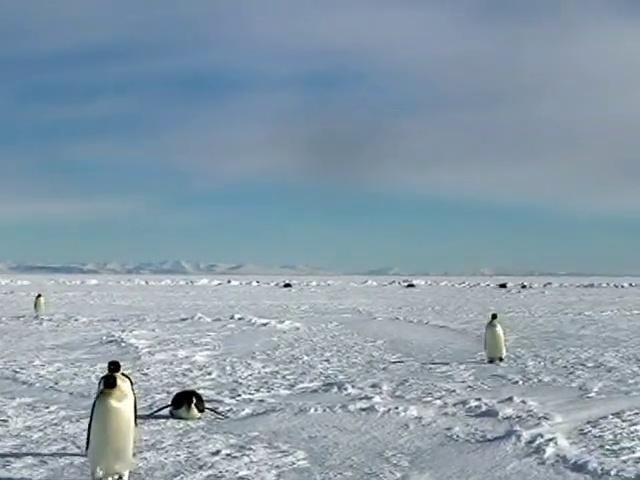animal: (150, 391, 207, 420)
